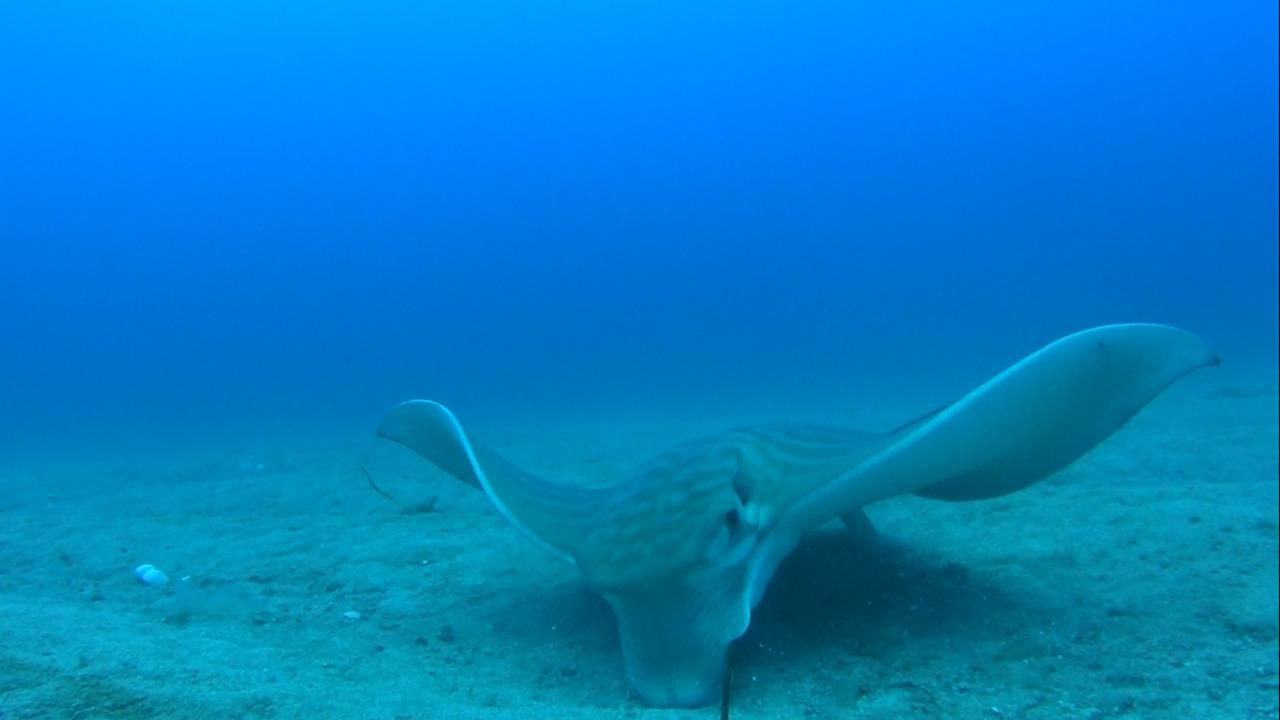myliobatis: (367, 316, 1225, 719)
